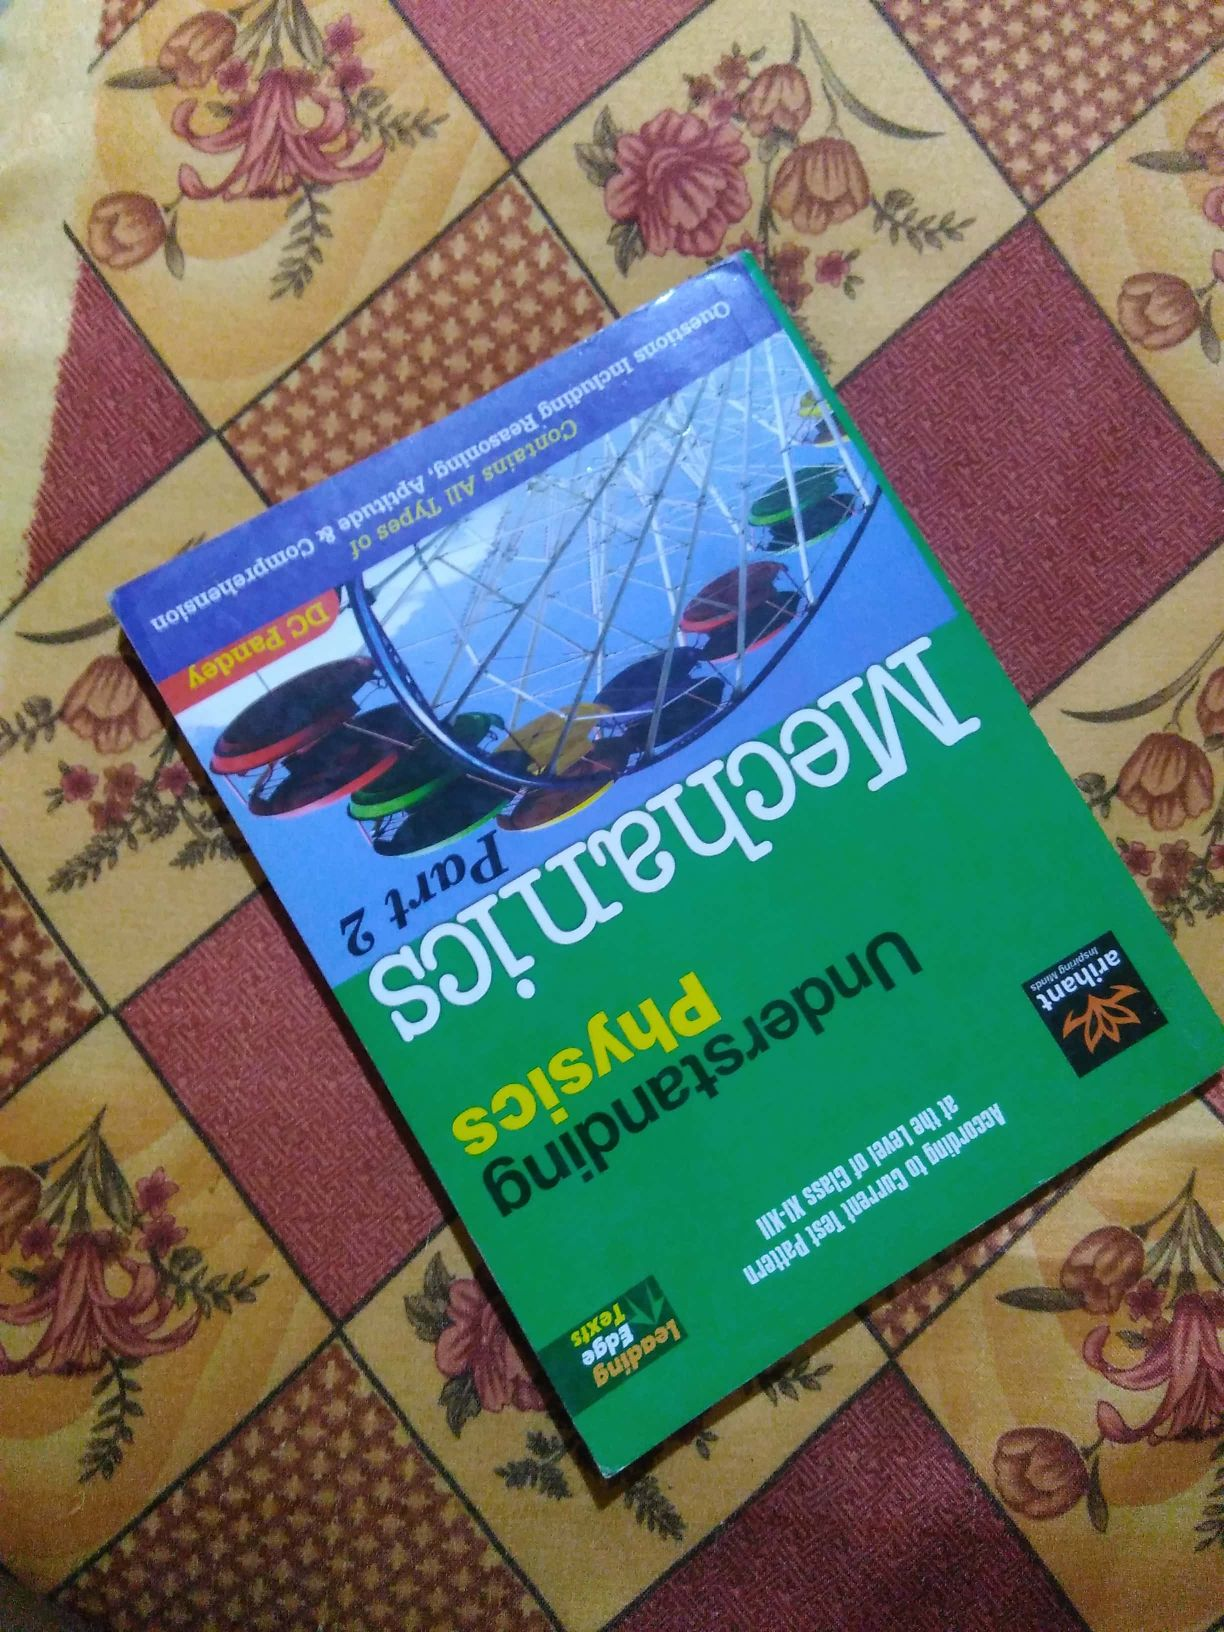mechanics: (103, 305, 1214, 1465)
